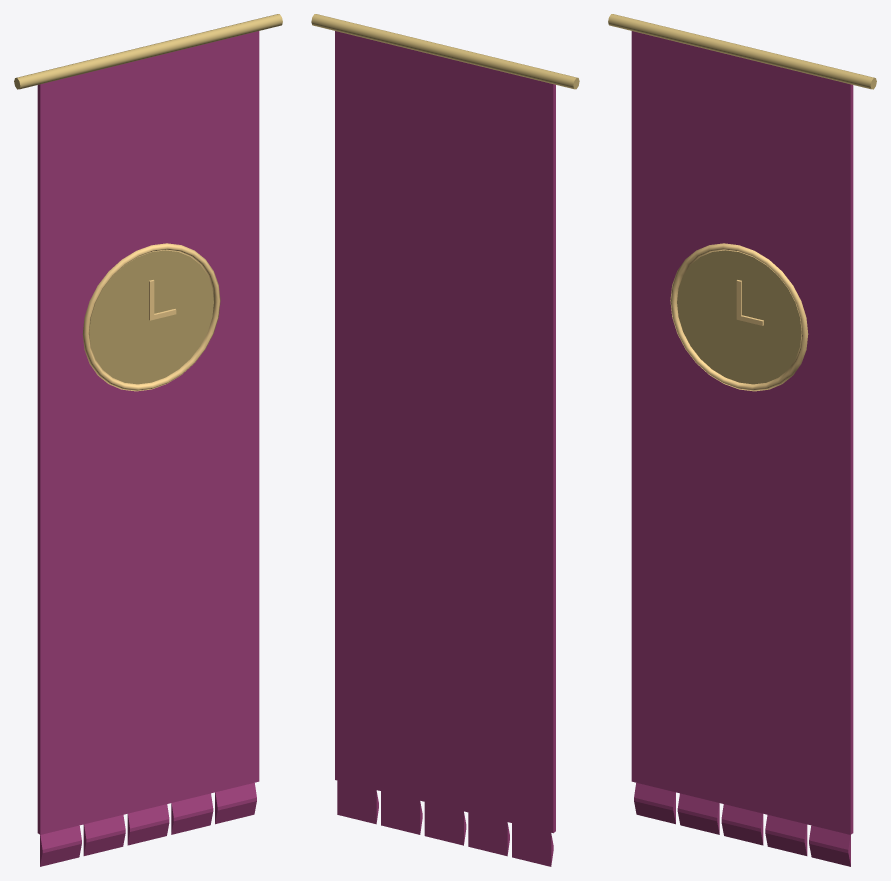
File: banner.glb
The picture shows the model from 3 angles, left to right: view 1: azimuth 30°, elevation 25°; view 2: azimuth 150°, elevation 25°; view 3: azimuth 330°, elevation 25°; orthographic projection.
Visible parts, largest first — view 1: banner, brass*0.8, brass, lit, banner.002, banner.003, banner.004, banner.001, banner.005; view 2: banner, brass, banner.003, banner.005, banner.002, banner.004, banner.001; view 3: banner, brass*0.8, brass, lit, banner.004, banner.003, banner.002, banner.005, banner.001.
Boxes of the visible parts, x1=… form: banner: x1=37, y1=31, x2=259, y2=834; brass*0.8: x1=89, y1=250, x2=213, y2=384; brass: x1=14, y1=14, x2=282, y2=89; lit: x1=82, y1=243, x2=220, y2=391; banner.002: x1=83, y1=814, x2=125, y2=855; banner.003: x1=127, y1=804, x2=169, y2=845; banner.004: x1=171, y1=793, x2=213, y2=834; banner.001: x1=40, y1=825, x2=81, y2=866; banner.005: x1=215, y1=783, x2=256, y2=824; banner: x1=335, y1=31, x2=555, y2=833; brass: x1=311, y1=14, x2=579, y2=89; banner.003: x1=424, y1=802, x2=466, y2=845; banner.005: x1=337, y1=780, x2=378, y2=824; banner.002: x1=468, y1=812, x2=509, y2=856; banner.004: x1=381, y1=791, x2=422, y2=834; banner.001: x1=512, y1=823, x2=553, y2=866; banner: x1=631, y1=31, x2=853, y2=834; brass*0.8: x1=677, y1=250, x2=801, y2=384; brass: x1=608, y1=14, x2=876, y2=89; lit: x1=670, y1=243, x2=808, y2=391; banner.004: x1=765, y1=814, x2=807, y2=855; banner.003: x1=721, y1=804, x2=763, y2=845; banner.002: x1=677, y1=793, x2=719, y2=834; banner.005: x1=809, y1=825, x2=850, y2=866; banner.001: x1=634, y1=783, x2=675, y2=824.
Bounding box in the file's own units: 2.4 × 6.95 × 0.13.
